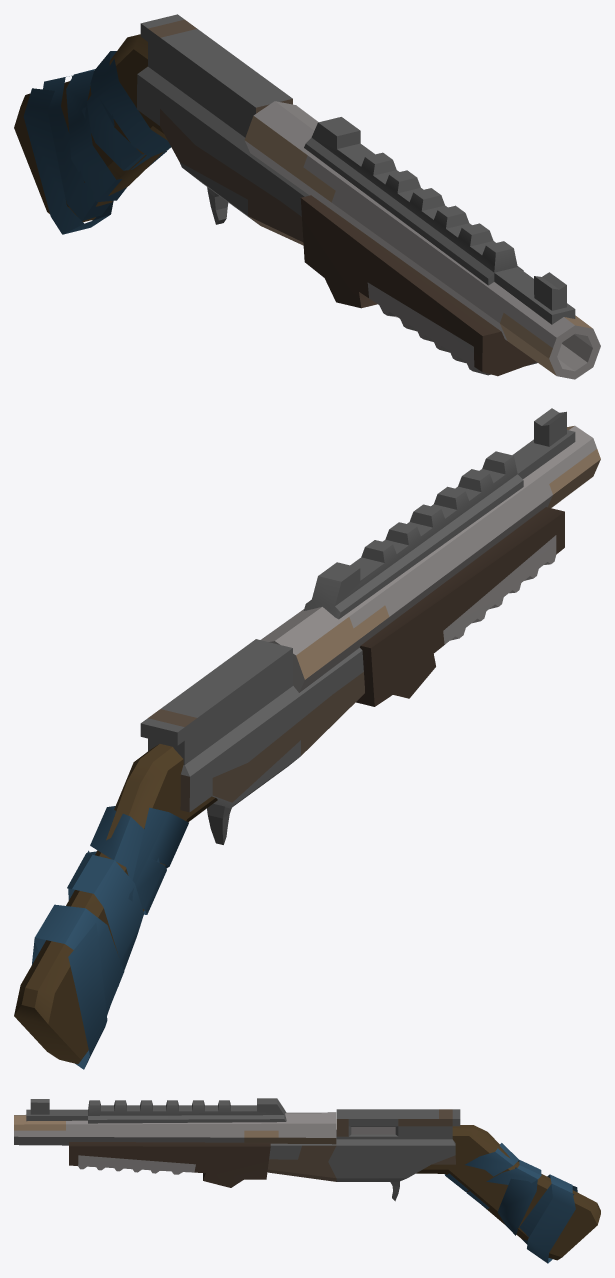
The model's file is cc0-shotgun-lod1.glb.
3 views of the same model, one above another, from view 1: azimuth 30°, elevation 25°; view 2: azimuth 150°, elevation 25°; view 3: azimuth 270°, elevation 25° (orthographic). The views are drawn at different scales.
Parts seen in each view (by area): view 1: part_0; view 2: part_0; view 3: part_0.
Boxes of the visible parts, left/top/right/bottom form: part_0: left=14, top=14, right=600, bottom=379; part_0: left=14, top=408, right=600, bottom=1069; part_0: left=14, top=1098, right=600, bottom=1263.
Size of the model in its own units: 0.0952 by 0.3382 by 1.11.
1 material, 1 textured.
